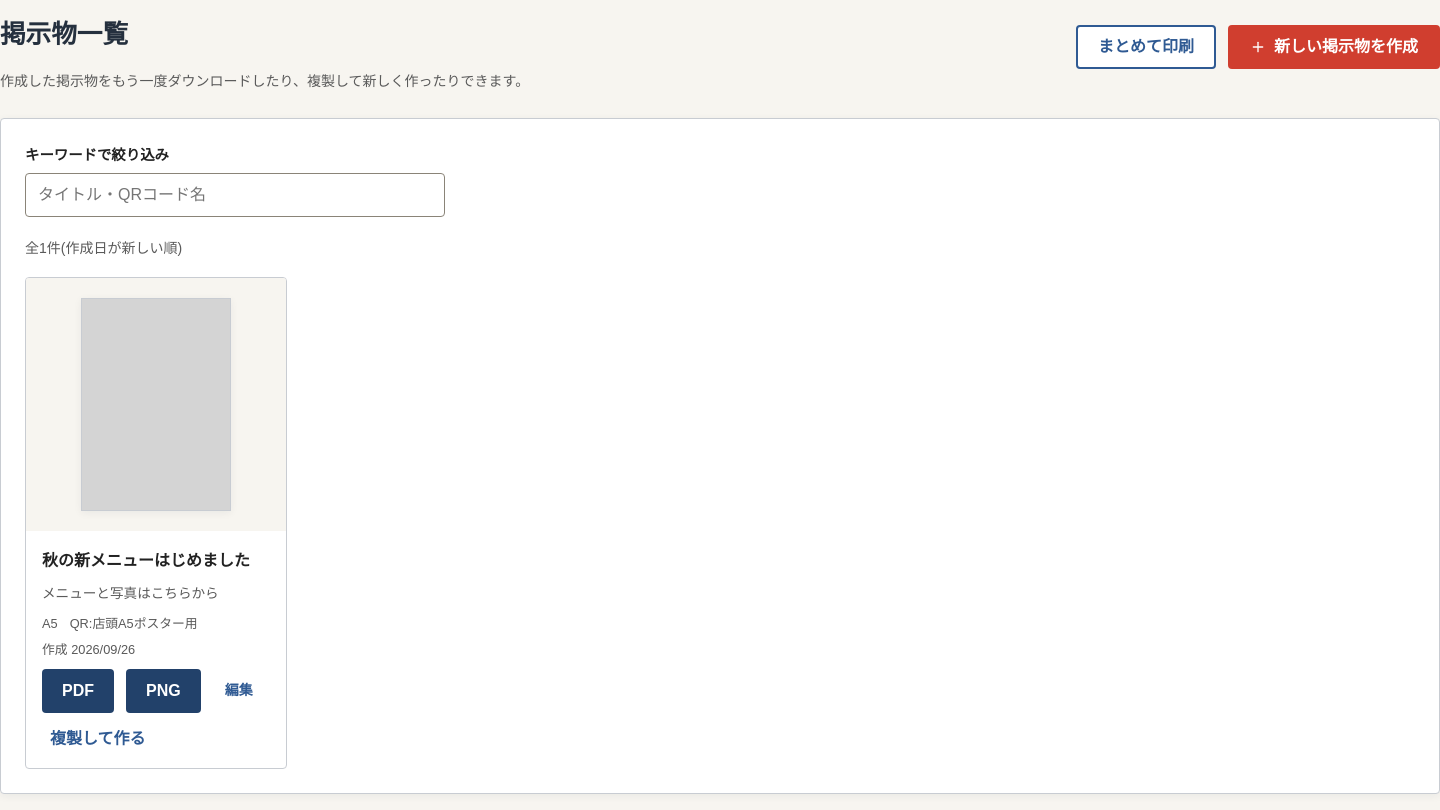
Scenario: PosterListPage › 書き出しに失敗したら、サーバーのエラー文言を表示する
What coordinates should you click on to do the following:
click the button with aria-label "秋の新メニューはじめましたをPDFでダウンロード"
I would click on:
 (78, 691)
Its box is [42, 669, 114, 713].
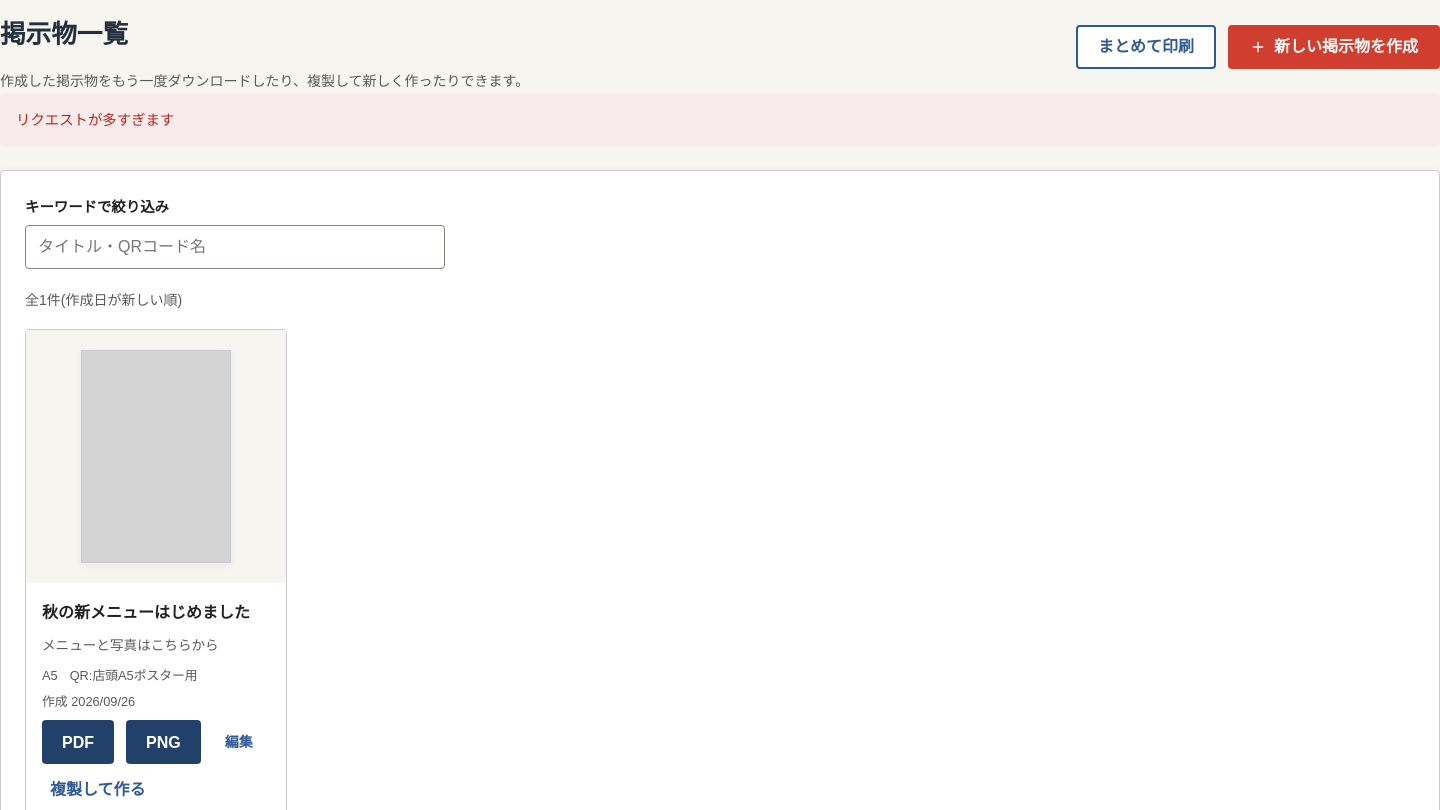
Now the message reads "リクエストが多すぎます", box [16, 112, 174, 128]
